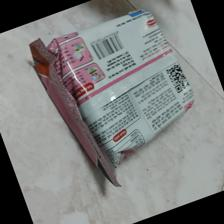Haohao: (30, 9, 195, 189)
